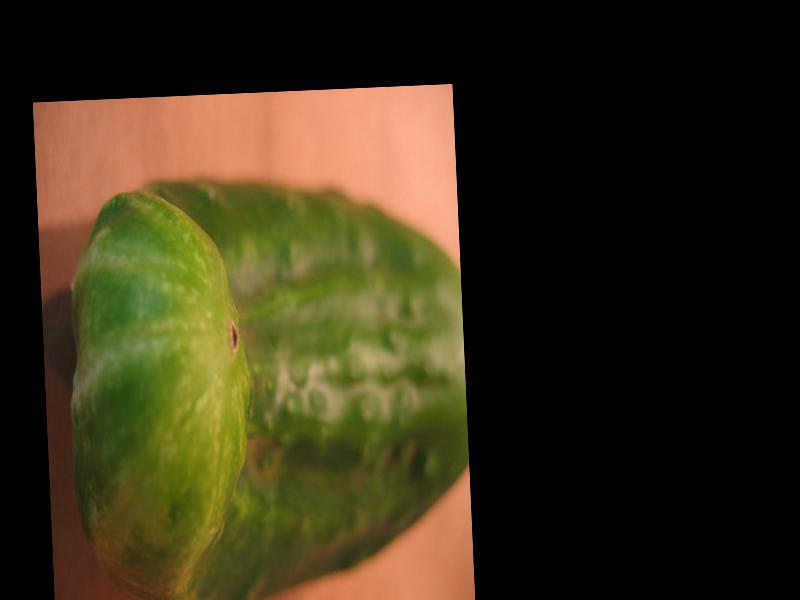Cucumber: (62, 165, 474, 600)
